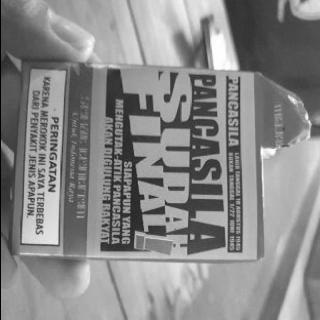objects: (10, 62, 256, 262)
